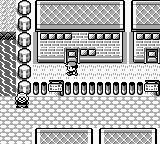captura: (1, 40, 16, 96)
leer: (49, 80, 64, 95), (144, 80, 159, 95)
main: (65, 62, 78, 75)
mo: (0, 32, 16, 39)
no-caminable: (36, 0, 124, 63), (132, 0, 159, 63), (16, 0, 32, 95), (66, 82, 142, 95), (36, 128, 92, 143), (100, 128, 156, 143), (33, 82, 47, 95)
npc: (14, 93, 30, 108)
puerta: (146, 50, 158, 62), (67, 49, 77, 63)
